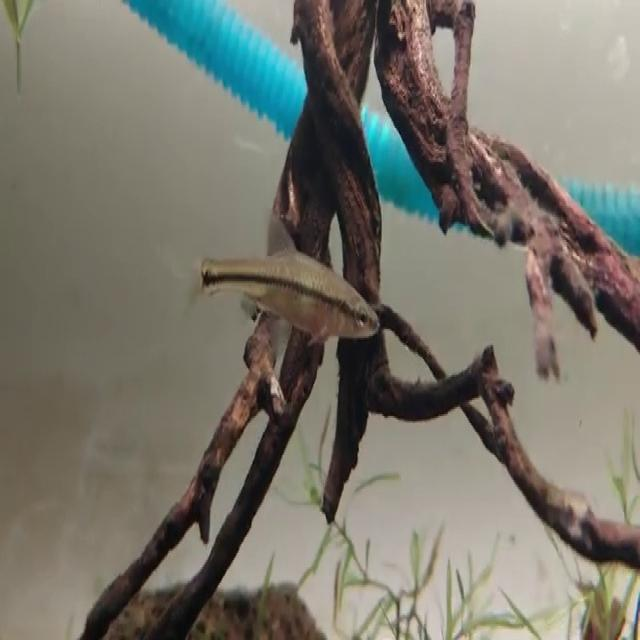Cakil Baligi: (199, 244, 380, 350)
